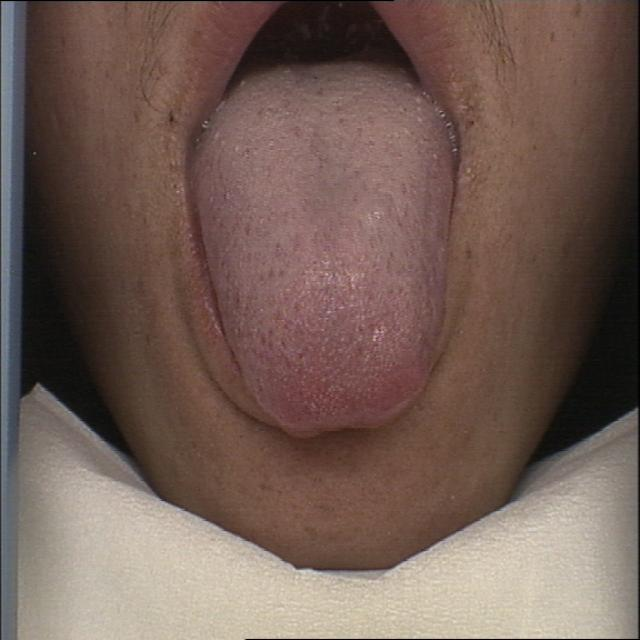tongue: (184, 67, 464, 450)
